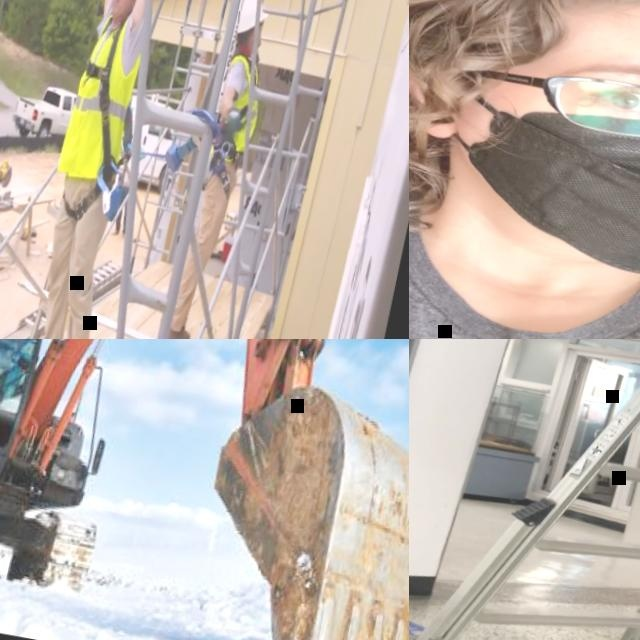Hardhat: (237, 0, 274, 39)
Mask: (425, 76, 640, 294)
NO-Hardhat: (409, 0, 640, 88)
NO-Mask: (109, 0, 132, 21), (258, 31, 265, 48)
NO-Safety Vest: (409, 147, 640, 339)
Person: (409, 0, 640, 339), (3, 0, 196, 339), (162, 0, 289, 339), (546, 339, 640, 515)
Safety Vest: (55, 14, 148, 188), (211, 53, 271, 167)
machinery: (0, 339, 409, 640)
vehicle: (114, 94, 184, 194), (10, 81, 79, 147)
